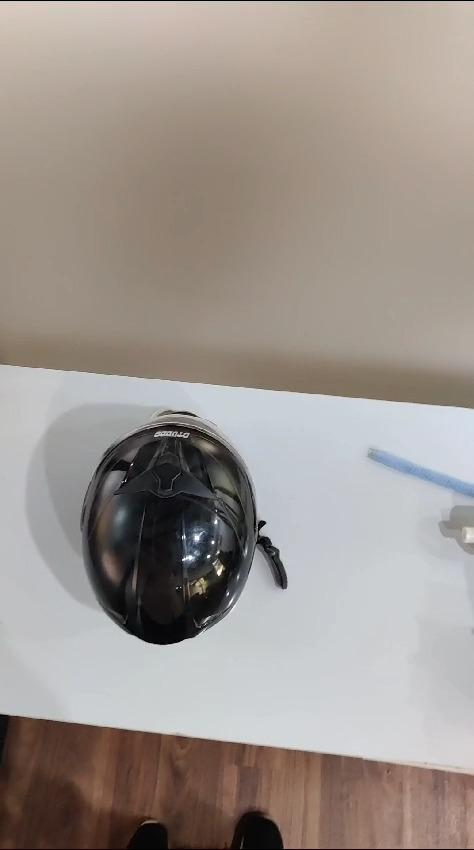Helmet: (74, 416, 266, 668)
